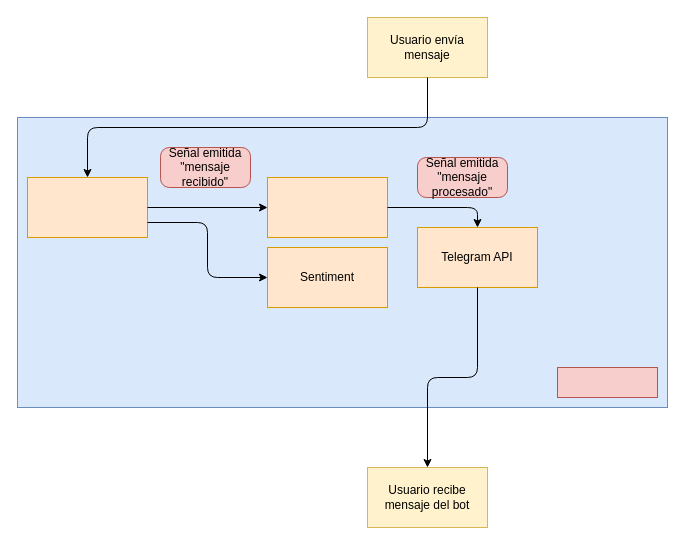
This 685x545 diagram has some shape labels left out. The centre of each missing label's shape, as x and y in pixels:
Aplicación: [607,382]
NLP: [327,207]
Recibimos un mensaje vía HTTP: [87,207]
